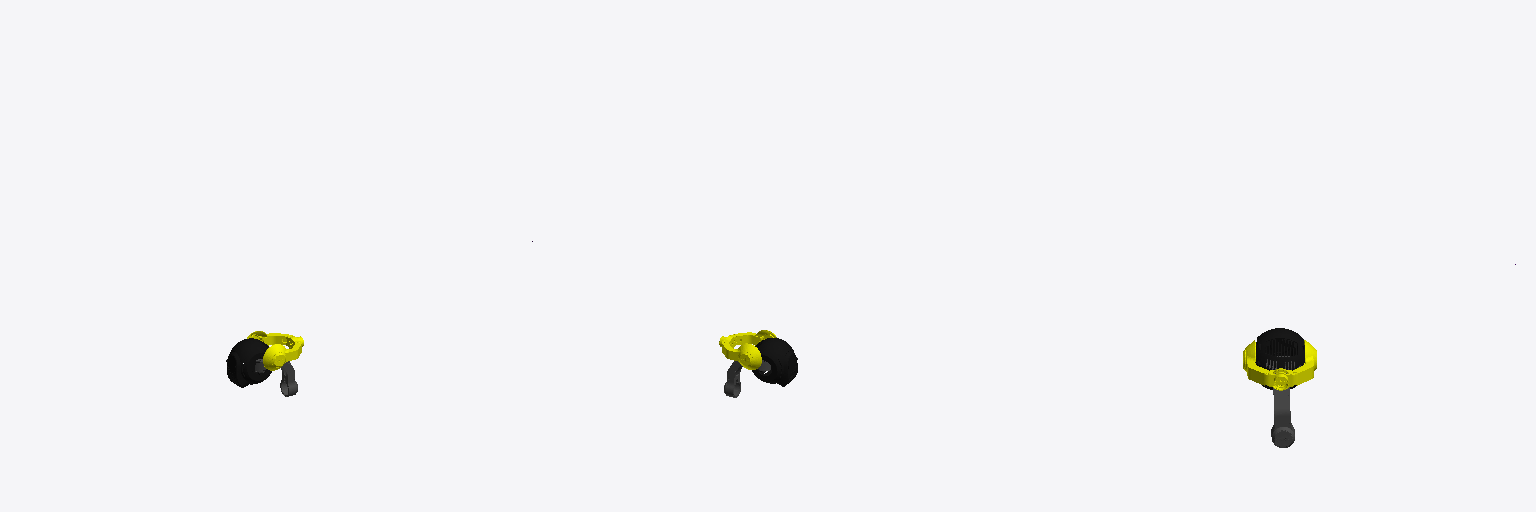
URDF robot description (swarm_drone):
<?xml version="1.0" ?>
<!-- =================================================================================== -->
<!-- |    This document was autogenerated by xacro from drone.urdf.xacro               | -->
<!-- |    EDITING THIS FILE BY HAND IS NOT RECOMMENDED                                 | -->
<!-- =================================================================================== -->
<robot name="swarm_drone">
  <!-- Dark grey color for the depth camera plastic material -->
  <material name="CameraMesh.003">
    <color rgba="0.02745 0.02745 0.02745 1.00000"/>
  </material>
  <!-- Darker black color for the landing drone parts -->
  <material name="LandingRubber">
    <color rgba="0.00392 0.00392 0.00392 1.00000"/>
  </material>
  <!-- Light grey color for the joint of 360 camera -->
  <material name="Metal">
    <color rgba="0.31765 0.31765 0.31765 1.00000"/>
  </material>
  <!-- Light yellow color for the drone body -->
  <material name="RailsAntennaHolder">
    <color rgba="0.95294 0.95294 0.00000 1.00000"/>
  </material>
  <!-- Dark grey color for the drone propellers -->
  <material name="green_metal">
    <color rgba="0.26667 0.02745 0.38824 1.00000"/>
  </material>
  <!-- Dark grey color for the camera 360 holder -->
  <material name="RailsRubber">
    <color rgba="0.10048 0.10048 0.10048 1.00000"/>
  </material>
  <!-- Main quadcopter link -->
  <link name="base_link">
    <collision name="base_collision">
      <origin rpy="0.00000 0.00000 0.00000" xyz="0.00000 -0.00000 0.00000"/>
      <geometry>
        <mesh filename="package://drone_description/meshes/collisions/base.stl" scale="0.00069 0.00069 0.00069"/>
      </geometry>
    </collision>
    <inertial>
      <inertia ixx="0.00557" ixy="-0.00000" ixz="0.00005" iyy="0.00469" iyz="0.00000" izz="0.00449"/>
      <origin rpy="0.00000 0.00000 0.00000" xyz="-0.00011 -0.00005 0.02056"/>
      <mass value="0.32500"/>
    </inertial>
    <visual name="base">
      <origin rpy="0.00000 0.00000 0.00000" xyz="0.00000 -0.00000 0.00000"/>
      <material name="LandingRubber"/>
      <geometry>
        <mesh filename="package://drone_description/meshes/visuals/base.dae" scale="0.00069 0.00069 0.00069"/>
      </geometry>
    </visual>
  </link>
  <!-- Front left proppeller link -->
  <link name="proppeller_FL_link">
    <collision name="proppeller_FL_collision">
      <origin rpy="1.57080 -0.00000 0.00000" xyz="-0.00000 -0.00000 -0.00000"/>
      <geometry>
        <mesh filename="package://drone_description/meshes/collisions/prop_fl.stl" scale="0.01000 0.01000 0.01000"/>
      </geometry>
    </collision>
    <inertial>
      <inertia ixx="0.00007" ixy="0.00000" ixz="0.00000" iyy="0.00001" iyz="-0.00000" izz="0.00007"/>
      <origin rpy="0.00000 0.00000 0.00000" xyz="-0.00000 -0.00000 -0.00000"/>
      <mass value="0.05000"/>
    </inertial>
    <visual name="proppeller_FL">
      <origin rpy="1.57080 -0.00000 0.00000" xyz="-0.00000 -0.00000 -0.00000"/>
      <material name="green_metal"/>
      <geometry>
        <mesh filename="package://drone_description/meshes/visuals/prop_fl.dae" scale="0.01000 0.01000 0.01000"/>
      </geometry>
    </visual>
  </link>
  <!-- Front right proppeller link -->
  <link name="proppeller_FR_link">
    <collision name="proppeller_FR_collision">
      <origin rpy="1.57080 -0.00000 0.00000" xyz="0.00000 0.00000 -0.00000"/>
      <geometry>
        <mesh filename="package://drone_description/meshes/collisions/prop_fr.stl" scale="0.01000 0.01000 0.01000"/>
      </geometry>
    </collision>
    <inertial>
      <inertia ixx="0.00007" ixy="-0.00000" ixz="0.00000" iyy="0.00001" iyz="0.00000" izz="0.00007"/>
      <origin rpy="0.00000 0.00000 0.00000" xyz="0.00000 0.00000 -0.00000"/>
      <mass value="0.05000"/>
    </inertial>
    <visual name="proppeller_FR">
      <origin rpy="1.57080 -0.00000 0.00000" xyz="-0.00000 0.00000 -0.00000"/>
      <material name="green_metal"/>
      <geometry>
        <mesh filename="package://drone_description/meshes/visuals/prop_fr.dae" scale="0.01000 0.01000 0.01000"/>
      </geometry>
    </visual>
  </link>
  <!-- Back left proppeller link -->
  <link name="proppeller_BL_link">
    <collision name="proppeller_BL_collision">
      <origin rpy="1.57080 0.00000 0.00000" xyz="0.00000 -0.00000 -0.00000"/>
      <geometry>
        <mesh filename="package://drone_description/meshes/collisions/prop_bl.stl" scale="0.01000 0.01000 0.01000"/>
      </geometry>
    </collision>
    <inertial>
      <inertia ixx="0.00007" ixy="-0.00000" ixz="-0.00000" iyy="0.00001" iyz="-0.00000" izz="0.00007"/>
      <origin rpy="0.00000 0.00000 0.00000" xyz="0.00000 -0.00000 -0.00000"/>
      <mass value="0.05000"/>
    </inertial>
    <visual name="proppeller_BL">
      <origin rpy="1.57080 0.00000 0.00000" xyz="0.00000 -0.00000 -0.00000"/>
      <material name="green_metal"/>
      <geometry>
        <mesh filename="package://drone_description/meshes/visuals/prop_bl.dae" scale="0.01000 0.01000 0.01000"/>
      </geometry>
    </visual>
  </link>
  <!-- Back right proppeller link -->
  <link name="proppeller_BR_link">
    <collision name="proppeller_BR_collision">
      <origin rpy="1.57080 0.00000 0.00000" xyz="-0.00000 -0.00000 -0.00000"/>
      <geometry>
        <mesh filename="package://drone_description/meshes/collisions/prop_br.stl" scale="0.01000 0.01000 0.01000"/>
      </geometry>
    </collision>
    <inertial>
      <inertia ixx="0.00007" ixy="0.00000" ixz="-0.00000" iyy="0.00001" iyz="-0.00000" izz="0.00007"/>
      <origin rpy="0.00000 0.00000 0.00000" xyz="-0.00000 -0.00000 -0.00000"/>
      <mass value="0.05000"/>
    </inertial>
    <visual name="proppeller_BR">
      <origin rpy="1.57080 0.00000 0.00000" xyz="-0.00000 -0.00000 -0.00000"/>
      <material name="green_metal"/>
      <geometry>
        <mesh filename="package://drone_description/meshes/visuals/prop_br.dae" scale="0.01000 0.01000 0.01000"/>
      </geometry>
    </visual>
  </link>
  <!-- Camera 360 link -->
  <link name="camera_360_link">
    <sensor name="camera_360" type="camera">
      <origin rpy="1.55815 -1.48401 -1.52510" xyz="-0.02318 0.00259 -0.00057"/>
      <parent link="camera_360_link"/>
      <camera>
        <image>
          <width>640</width>
          <height>480</height>
          <hfov>1.57080</hfov>
        </image>
      </camera>
    </sensor>
    <collision name="camera_360_collision">
      <origin rpy="-1.67352 -0.01991 -0.11320" xyz="0.00062 0.00343 -0.00033"/>
      <geometry>
        <mesh filename="package://drone_description/meshes/collisions/camera_360.stl" scale="0.00069 0.00069 0.00069"/>
      </geometry>
    </collision>
    <inertial>
      <inertia ixx="0.00002" ixy="-0.00000" ixz="-0.00000" iyy="0.00003" iyz="-0.00000" izz="0.00003"/>
      <origin rpy="0.00000 0.00000 0.00000" xyz="-0.00276 -0.00079 0.00002"/>
      <mass value="0.12500"/>
    </inertial>
    <visual name="camera_360">
      <origin rpy="-1.67352 -0.01991 -0.11320" xyz="0.00062 0.00343 -0.00033"/>
      <material name="RailsRubber"/>
      <geometry>
        <mesh filename="package://drone_description/meshes/visuals/camera_360.dae" scale="0.00069 0.00069 0.00069"/>
      </geometry>
    </visual>
  </link>
  <!-- Camera joint 1 link -->
  <link name="camera_joint_1_link">
    <collision name="camera_joint_1_collision">
      <origin rpy="3.14159 0.00000 -3.14159" xyz="-0.03933 -0.00000 0.01897"/>
      <geometry>
        <mesh filename="package://drone_description/meshes/collisions/camera_joint1.stl" scale="0.00069 0.00069 0.00069"/>
      </geometry>
    </collision>
    <inertial>
      <inertia ixx="0.00100" ixy="0.00000" ixz="0.00000" iyy="0.00100" iyz="0.00000" izz="0.00100"/>
      <origin rpy="0.00000 0.00000 0.00000" xyz="0.00000 0.00000 -0.00000"/>
      <mass value="0.12500"/>
    </inertial>
    <visual name="camera_joint_1">
      <origin rpy="3.14159 0.00000 3.12071" xyz="-0.03932 0.00082 0.01897"/>
      <material name="RailsAntennaHolder"/>
      <geometry>
        <mesh filename="package://drone_description/meshes/visuals/camera_joint1.dae" scale="0.00069 0.00069 0.00069"/>
      </geometry>
    </visual>
  </link>
  <!-- Camera joint 2 link -->
  <link name="camera_joint_2_link">
    <collision name="camera_joint_2_collision">
      <origin rpy="1.57078 -1.54991 -1.57078" xyz="0.00022 0.00039 -0.01975"/>
      <geometry>
        <mesh filename="package://drone_description/meshes/collisions/camera_joint2.stl" scale="0.00069 0.00069 0.00069"/>
      </geometry>
    </collision>
    <inertial>
      <inertia ixx="0.00004" ixy="-0.00000" ixz="0.00000" iyy="0.00002" iyz="-0.00000" izz="0.00005"/>
      <origin rpy="0.00000 0.00000 0.00000" xyz="0.00027 -0.00019 -0.01827"/>
      <mass value="0.12500"/>
    </inertial>
    <visual name="camera_joint_2">
      <origin rpy="0.66324 -1.57080 -0.63013" xyz="0.00021 0.00045 -0.01976"/>
      <material name="Metal"/>
      <geometry>
        <mesh filename="package://drone_description/meshes/visuals/camera_joint2.dae" scale="0.00069 0.00069 0.00069"/>
      </geometry>
    </visual>
  </link>
  <!-- Depth camera link -->
  <link name="depth_camera_link">
    <sensor name="depth_camera" type="camera">
      <origin rpy="-1.57080 0.00000 0.00000" xyz="0.00000 0.00736 0.00000"/>
      <parent link="depth_camera_link"/>
      <camera>
        <image>
          <width>640</width>
          <height>480</height>
          <hfov>1.57080</hfov>
        </image>
      </camera>
    </sensor>
    <collision name="depth_camera_collision">
      <origin rpy="1.57080 0.00000 0.00000" xyz="0.00000 -0.00000 -0.00000"/>
      <geometry>
        <mesh filename="package://drone_description/meshes/collisions/depth_camera.stl" scale="0.01000 0.01000 0.01000"/>
      </geometry>
    </collision>
    <inertial>
      <inertia ixx="0.00003" ixy="-0.00000" ixz="0.00000" iyy="0.00000" iyz="-0.00000" izz="0.00003"/>
      <origin rpy="0.00000 0.00000 0.00000" xyz="0.00000 -0.00000 -0.00000"/>
      <mass value="0.05000"/>
    </inertial>
    <visual name="depth_camera">
      <origin rpy="1.57080 -0.00000 0.00000" xyz="0.00000 -0.00000 -0.00000"/>
      <material name="CameraMesh.003"/>
      <geometry>
        <mesh filename="package://drone_description/meshes/visuals/depth_camera.dae" scale="0.01000 0.01000 0.01000"/>
      </geometry>
    </visual>
  </link>
  <!-- Proppeller front left joint -->
  <joint name="proppeller_BL_link_joint" type="continuous">
    <limit effort="0.00000" lower="0.00000" upper="0.00000" velocity="0.00000"/>
    <origin rpy="0.00000 0.00000 -0.00000" xyz="0.18070 -0.17501 0.11613"/>
    <parent link="base_link"/>
    <child link="proppeller_BL_link"/>
    <axis xyz="0.00000 0.00000 1.00000"/>
  </joint>
  <!-- Proppeller front right joint -->
  <joint name="proppeller_BR_link_joint" type="continuous">
    <limit effort="0.00000" lower="0.00000" upper="0.00000" velocity="0.00000"/>
    <origin rpy="0.00000 0.00000 -0.00000" xyz="0.18070 0.17477 0.11613"/>
    <parent link="base_link"/>
    <child link="proppeller_BR_link"/>
    <axis xyz="0.00000 0.00000 -1.00000"/>
  </joint>
  <!-- Proppeller back left joint -->
  <joint name="proppeller_FL_link_joint" type="continuous">
    <limit effort="0.00000" lower="0.00000" upper="0.00000" velocity="0.00000"/>
    <origin rpy="0.00000 0.00000 -0.00000" xyz="-0.16902 -0.17494 0.11613"/>
    <parent link="base_link"/>
    <child link="proppeller_FL_link"/>
    <axis xyz="0.00000 0.00000 -1.00000"/>
  </joint>
  <!-- Proppeller back right joint -->
  <joint name="proppeller_FR_link_joint" type="continuous">
    <limit effort="0.00000" lower="0.00000" upper="0.00000" velocity="0.00000"/>
    <origin rpy="0.00000 0.00000 -0.00000" xyz="-0.16893 0.17474 0.11613"/>
    <parent link="base_link"/>
    <child link="proppeller_FR_link"/>
    <axis xyz="0.00000 0.00000 1.00000"/>
  </joint>
  <!-- Camera 360 joint -->
  <joint name="camera_360_link_joint" type="revolute">
    <limit effort="0.00000" lower="-3.14000" upper="3.14000" velocity="0.00000"/>
    <origin rpy="2.21817 -1.57080 -0.61426" xyz="0.00019 0.00002 -0.03339"/>
    <parent link="camera_joint_2_link"/>
    <child link="camera_360_link"/>
    <axis xyz="0.00000 0.00000 1.00000"/>
  </joint>
  <!-- Camera joint 1 joint -->
  <joint name="camera_joint_1_link_joint" type="revolute">
    <limit effort="0.00000" lower="-3.14000" upper="3.14000" velocity="0.00000"/>
    <origin rpy="3.14159 -0.00000 -3.14159" xyz="0.01099 -0.00017 -0.01909"/>
    <parent link="base_link"/>
    <child link="camera_joint_1_link"/>
    <axis xyz="0.00000 0.00000 1.00000"/>
  </joint>
  <!-- Camera joint 2 joint -->
  <joint name="camera_joint_2_link_joint" type="revolute">
    <limit effort="0.00000" lower="-3.14000" upper="3.14000" velocity="0.00000"/>
    <origin rpy="2.77664 -1.57080 -2.79753" xyz="-0.02223 0.00046 0.03019"/>
    <parent link="camera_joint_1_link"/>
    <child link="camera_joint_2_link"/>
    <axis xyz="0.00000 0.00000 1.00000"/>
  </joint>
  <!-- Depth camera joint -->
  <joint name="depth_camera_link_joint" type="fixed">
    <origin rpy="-0.00000 -0.00000 1.57080" xyz="-0.11887 -0.00145 0.07986"/>
    <parent link="base_link"/>
    <child link="depth_camera_link"/>
  </joint>
</robot>

--- What the picture shows (computed from the rendered views, not written in the file) ---
3 views of the same robot in one strip: view 1: azimuth 30°, elevation 25°; view 2: azimuth 150°, elevation 25°; view 3: azimuth 270°, elevation 25° (orthographic).
Robot: swarm_drone — 9 links, 8 joints (3 revolute, 4 continuous, 1 fixed); root link base_link; default pose: all joints at 0.
Links seen in each view (by area): view 1: camera_360_link, camera_joint_1_link, camera_joint_2_link; view 2: camera_360_link, camera_joint_1_link, camera_joint_2_link; view 3: camera_360_link, camera_joint_1_link, camera_joint_2_link.
Link boxes in pixels (<box>): camera_360_link: <box>226,338,271,387</box>; camera_joint_1_link: <box>247,331,303,370</box>; camera_joint_2_link: <box>255,359,297,396</box>; camera_360_link: <box>752,338,797,386</box>; camera_joint_1_link: <box>719,330,776,369</box>; camera_joint_2_link: <box>724,360,770,397</box>; camera_360_link: <box>1255,328,1304,389</box>; camera_joint_1_link: <box>1243,340,1316,390</box>; camera_joint_2_link: <box>1266,356,1300,447</box>.
Bounding box of the posed robot: 0.3505 × 0.3504 × 0.2136 m (x, y, z).
7 mesh visuals loaded from 9 distinct referenced files (7 Collada DAE); not drawn: 2 (reference not matched to a file when rendering).
